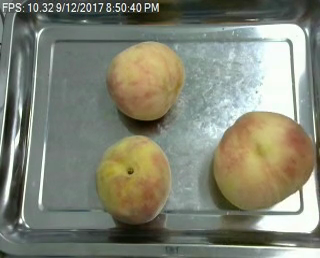Peach: (213, 108, 314, 211), (95, 134, 171, 222), (106, 40, 183, 120)
